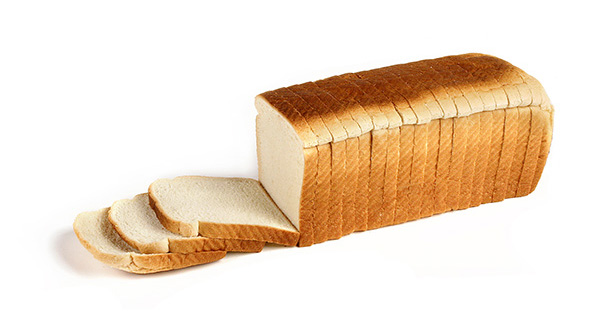slice of bread: (53, 171, 286, 278), (144, 169, 301, 249), (252, 82, 327, 246)
